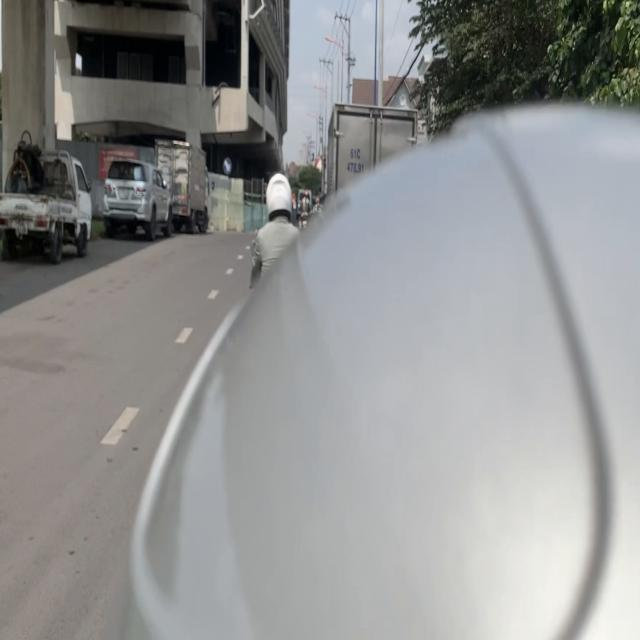Hieu lenh: (223, 157, 232, 175)
